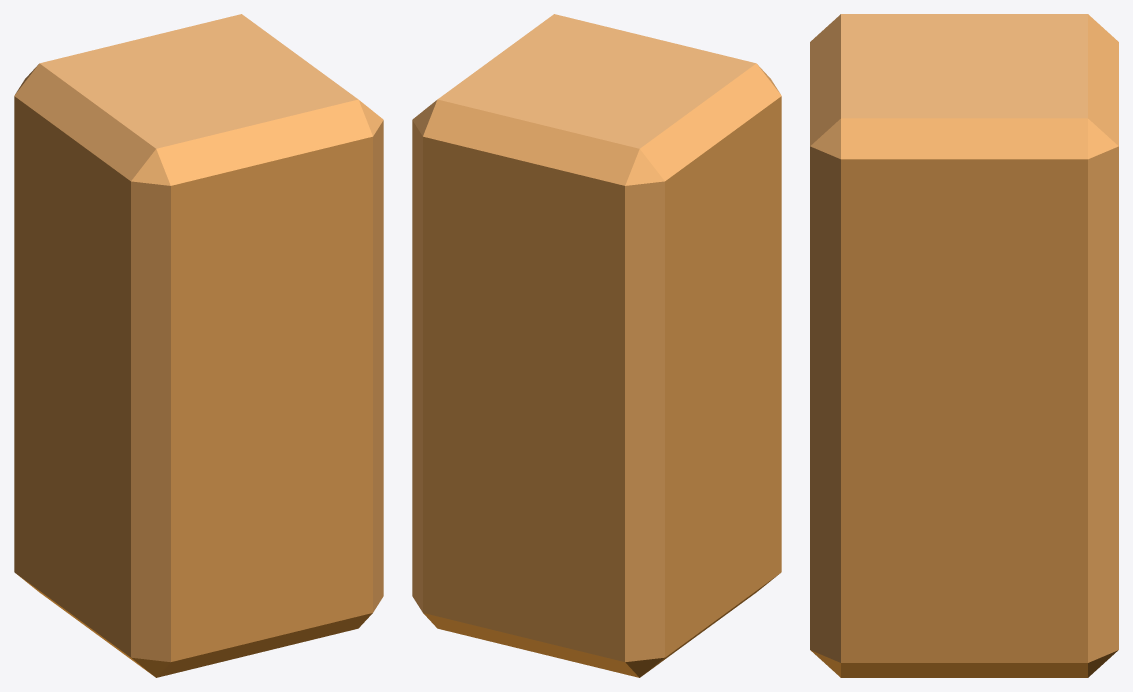
The model's file is m_kub_clay_vrick.FBX.
3 views of the same model, side by side, from view 1: azimuth 30°, elevation 25°; view 2: azimuth 150°, elevation 25°; view 3: azimuth 270°, elevation 25° (orthographic). The views are drawn at different scales.
Visible parts, largest first — view 1: m_kub_clay_vrick; view 2: m_kub_clay_vrick; view 3: m_kub_clay_vrick.
Boxes of the visible parts, x1,y1,x2,y2 form: m_kub_clay_vrick: (14, 14, 383, 677); m_kub_clay_vrick: (412, 14, 781, 677); m_kub_clay_vrick: (810, 14, 1118, 677).
Size of the model in its own units: 1 by 2 by 1.
